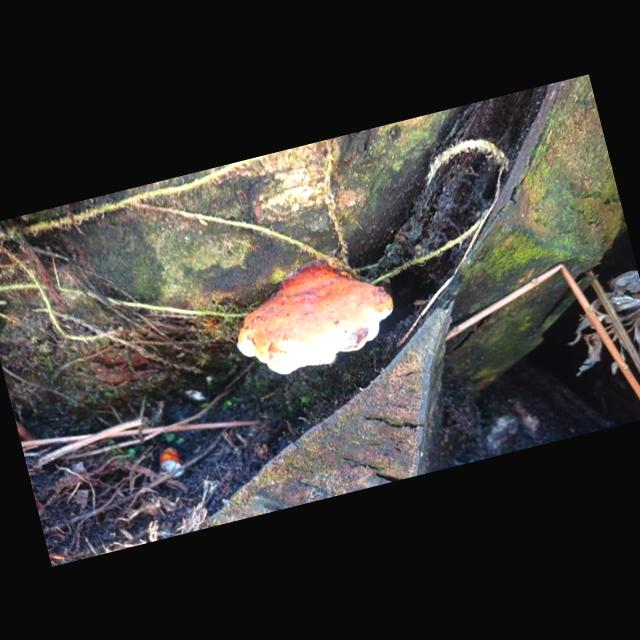ganoderma: (222, 240, 408, 386)
primordium: (156, 445, 188, 482)
